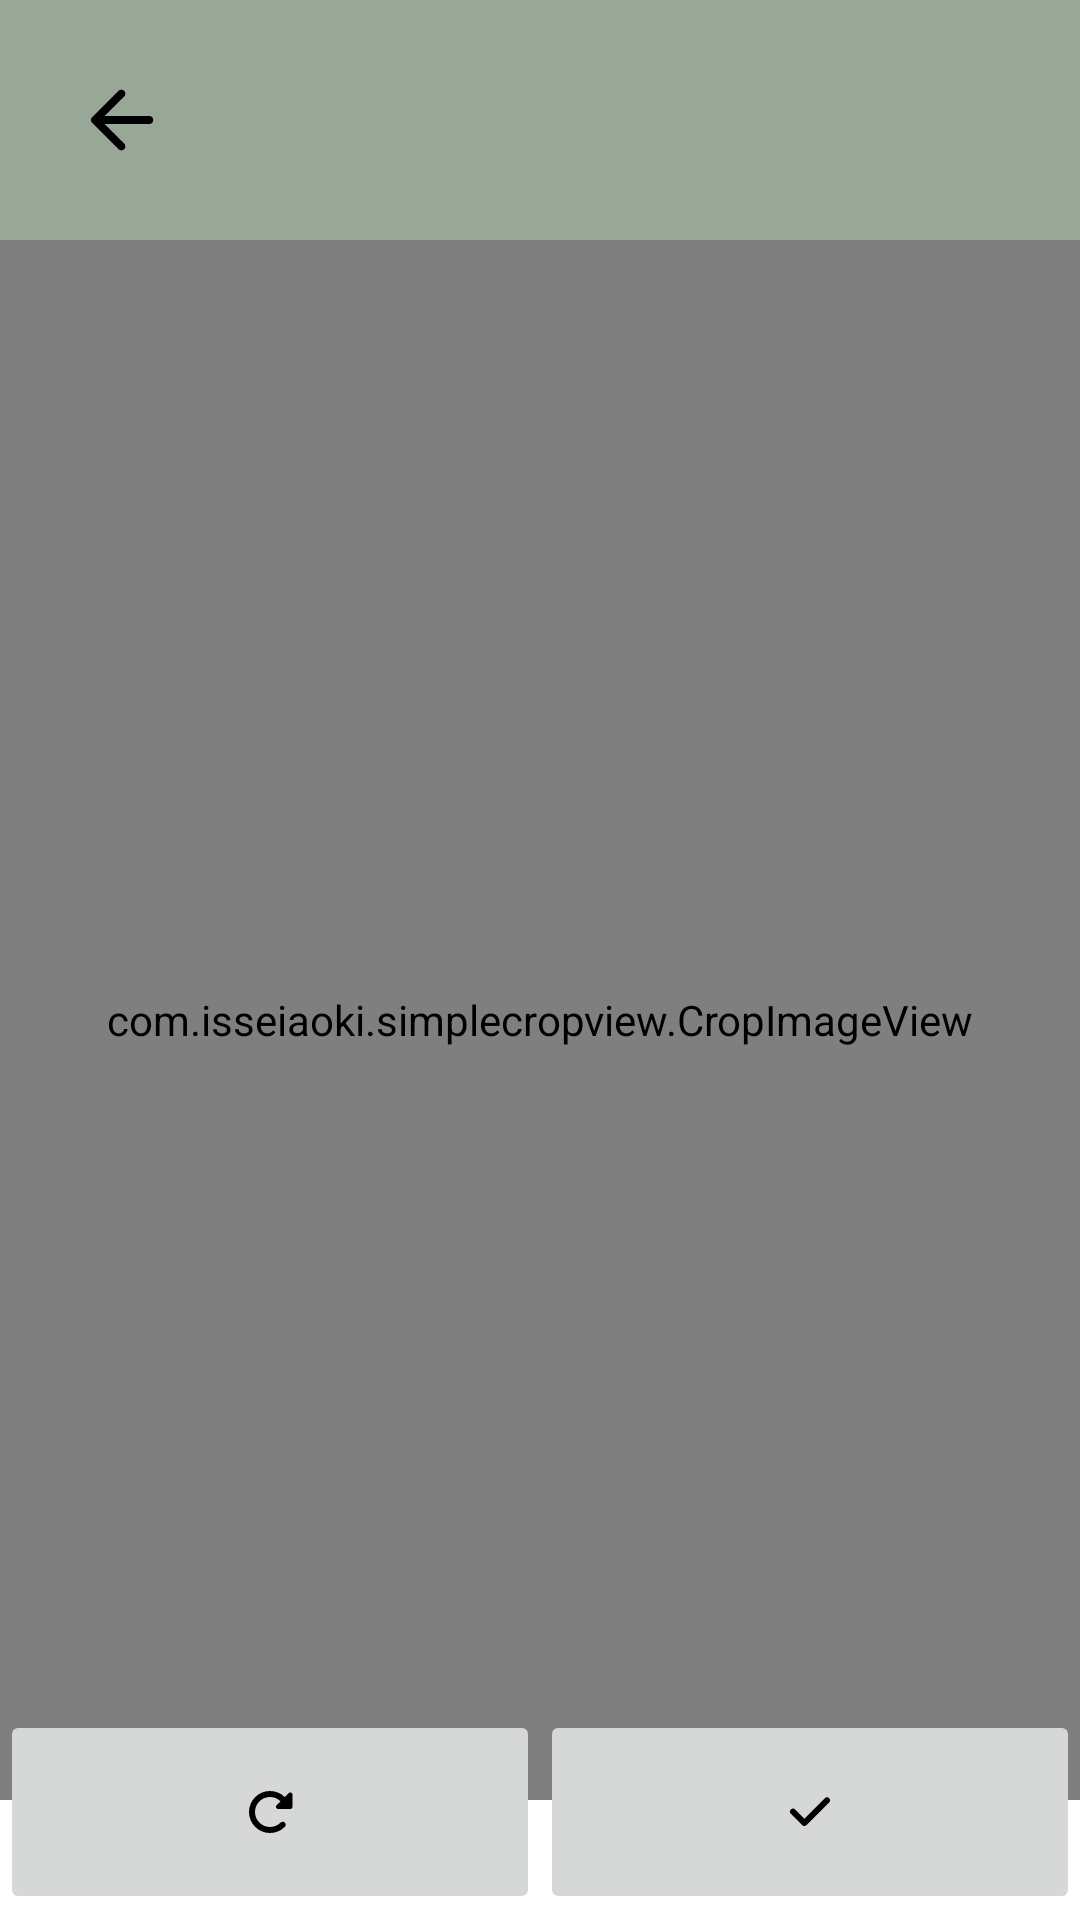

Screen size 1080px x 1920px. Icon name, then its center in pixels as (x,y):
arrow back rounded: (122,120)
